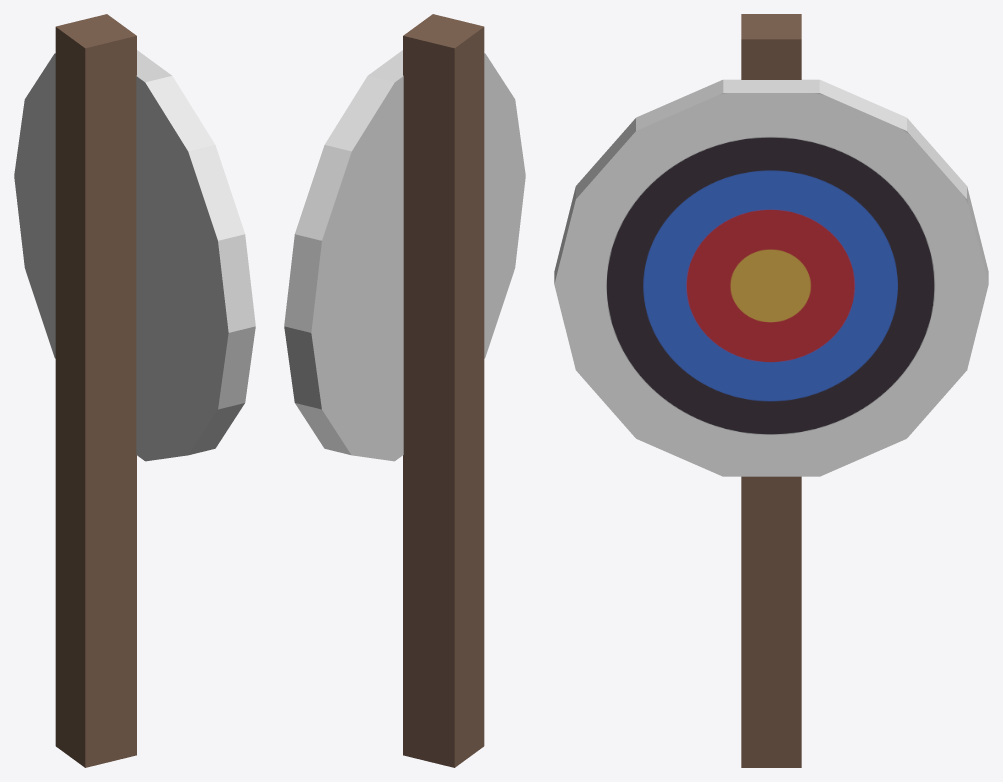
The model's file is Target1.fbx.
3 views of the same model, side by side, from view 1: azimuth 30°, elevation 25°; view 2: azimuth 150°, elevation 25°; view 3: azimuth 270°, elevation 25° (orthographic).
Parts seen in each view (by area): view 1: Stand, Target; view 2: Stand, Target; view 3: Target, Stand.
Part boxes in pixels (x1,y1,x2,y2): Stand: [55, 14, 136, 767]; Target: [14, 50, 255, 461]; Stand: [403, 14, 484, 767]; Target: [284, 50, 525, 461]; Target: [554, 79, 988, 476]; Stand: [741, 14, 801, 767].
Size of the model in its own units: 28.46 by 250 by 135.
